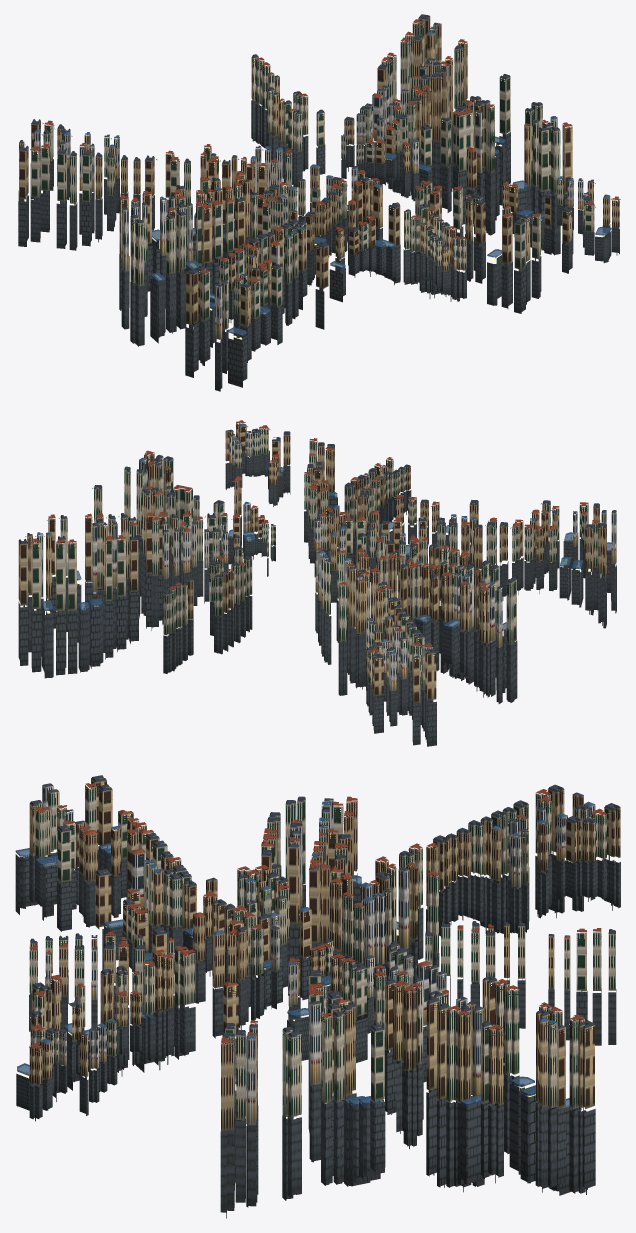
File: osm_buildings_T_E01_S01_Q1.glb
3 views of the same model, one above another, from view 1: azimuth 30°, elevation 25°; view 2: azimuth 150°, elevation 25°; view 3: azimuth 270°, elevation 25° (orthographic). The views are drawn at different scales.
Visible parts, largest first — view 1: OSM_PBR_T_E01_S01_Q1_foundation, OSM_PBR_T_E01_S01_Q1_wall_cream_stucco, OSM_PBR_T_E01_S01_Q1_wall_french_ochre, OSM_PBR_T_E01_S01_Q1_wall_pastel_sand, OSM_PBR_T_E01_S01_Q1_wall_warm_white, OSM_PBR_T_E01_S01_Q1_roof_mansard_slate, OSM_PBR_T_E01_S01_Q1_roof_terracotta, OSM_PBR_T_E01_S01_Q1_greenhouse_blend, OSM_PBR_T_E01_S01_Q1_roof_mansard_deck, OSM_PBR_T_E01_S01_Q1_roof_mint_metal, OSM_PBR_T_E01_S01_Q1_balcony_railing, OSM_PBR_T_E01_S01_Q1_roof_alpine_blue; view 2: OSM_PBR_T_E01_S01_Q1_foundation, OSM_PBR_T_E01_S01_Q1_wall_cream_stucco, OSM_PBR_T_E01_S01_Q1_wall_french_ochre, OSM_PBR_T_E01_S01_Q1_wall_pastel_sand, OSM_PBR_T_E01_S01_Q1_wall_warm_white, OSM_PBR_T_E01_S01_Q1_roof_mansard_slate, OSM_PBR_T_E01_S01_Q1_roof_terracotta, OSM_PBR_T_E01_S01_Q1_greenhouse_blend, OSM_PBR_T_E01_S01_Q1_roof_mansard_deck, OSM_PBR_T_E01_S01_Q1_roof_mint_metal, OSM_PBR_T_E01_S01_Q1_roof_alpine_blue, OSM_PBR_T_E01_S01_Q1_trim_cornice; view 3: OSM_PBR_T_E01_S01_Q1_foundation, OSM_PBR_T_E01_S01_Q1_wall_french_ochre, OSM_PBR_T_E01_S01_Q1_wall_cream_stucco, OSM_PBR_T_E01_S01_Q1_wall_warm_white, OSM_PBR_T_E01_S01_Q1_wall_pastel_sand, OSM_PBR_T_E01_S01_Q1_roof_mansard_slate, OSM_PBR_T_E01_S01_Q1_roof_terracotta, OSM_PBR_T_E01_S01_Q1_greenhouse_blend, OSM_PBR_T_E01_S01_Q1_roof_mansard_deck, OSM_PBR_T_E01_S01_Q1_roof_mint_metal, OSM_PBR_T_E01_S01_Q1_trim_cornice, OSM_PBR_T_E01_S01_Q1_roof_alpine_blue.
Boxes of the visible parts, x1=… form: OSM_PBR_T_E01_S01_Q1_foundation: x1=18, y1=99, x2=619, y2=391; OSM_PBR_T_E01_S01_Q1_wall_cream_stucco: x1=31, y1=22, x2=594, y2=329; OSM_PBR_T_E01_S01_Q1_wall_french_ochre: x1=19, y1=17, x2=619, y2=326; OSM_PBR_T_E01_S01_Q1_wall_pastel_sand: x1=34, y1=67, x2=573, y2=339; OSM_PBR_T_E01_S01_Q1_wall_warm_white: x1=63, y1=60, x2=589, y2=284; OSM_PBR_T_E01_S01_Q1_roof_mansard_slate: x1=19, y1=15, x2=593, y2=287; OSM_PBR_T_E01_S01_Q1_roof_terracotta: x1=31, y1=19, x2=619, y2=282; OSM_PBR_T_E01_S01_Q1_greenhouse_blend: x1=151, y1=112, x2=611, y2=336; OSM_PBR_T_E01_S01_Q1_roof_mansard_deck: x1=20, y1=14, x2=608, y2=313; OSM_PBR_T_E01_S01_Q1_roof_mint_metal: x1=20, y1=20, x2=617, y2=292; OSM_PBR_T_E01_S01_Q1_balcony_railing: x1=32, y1=47, x2=617, y2=291; OSM_PBR_T_E01_S01_Q1_roof_alpine_blue: x1=34, y1=26, x2=609, y2=256; OSM_PBR_T_E01_S01_Q1_foundation: x1=18, y1=450, x2=616, y2=746; OSM_PBR_T_E01_S01_Q1_wall_cream_stucco: x1=32, y1=428, x2=606, y2=690; OSM_PBR_T_E01_S01_Q1_wall_french_ochre: x1=18, y1=423, x2=606, y2=703; OSM_PBR_T_E01_S01_Q1_wall_pastel_sand: x1=112, y1=440, x2=616, y2=691; OSM_PBR_T_E01_S01_Q1_wall_warm_white: x1=92, y1=433, x2=577, y2=673; OSM_PBR_T_E01_S01_Q1_roof_mansard_slate: x1=19, y1=429, x2=616, y2=658; OSM_PBR_T_E01_S01_Q1_roof_terracotta: x1=32, y1=420, x2=600, y2=651; OSM_PBR_T_E01_S01_Q1_greenhouse_blend: x1=42, y1=466, x2=611, y2=630; OSM_PBR_T_E01_S01_Q1_roof_mansard_deck: x1=20, y1=428, x2=610, y2=656; OSM_PBR_T_E01_S01_Q1_roof_mint_metal: x1=20, y1=433, x2=604, y2=661; OSM_PBR_T_E01_S01_Q1_roof_alpine_blue: x1=37, y1=424, x2=535, y2=654; OSM_PBR_T_E01_S01_Q1_trim_cornice: x1=20, y1=423, x2=614, y2=658; OSM_PBR_T_E01_S01_Q1_foundation: x1=15, y1=846, x2=620, y2=1218; OSM_PBR_T_E01_S01_Q1_wall_french_ochre: x1=29, y1=777, x2=620, y2=1130; OSM_PBR_T_E01_S01_Q1_wall_cream_stucco: x1=29, y1=785, x2=615, y2=1120; OSM_PBR_T_E01_S01_Q1_wall_warm_white: x1=59, y1=811, x2=567, y2=1125; OSM_PBR_T_E01_S01_Q1_wall_pastel_sand: x1=42, y1=785, x2=595, y2=1084; OSM_PBR_T_E01_S01_Q1_roof_mansard_slate: x1=30, y1=775, x2=620, y2=1037; OSM_PBR_T_E01_S01_Q1_roof_terracotta: x1=29, y1=783, x2=606, y2=1047; OSM_PBR_T_E01_S01_Q1_greenhouse_blend: x1=15, y1=843, x2=569, y2=1109; OSM_PBR_T_E01_S01_Q1_roof_mansard_deck: x1=17, y1=775, x2=618, y2=1109; OSM_PBR_T_E01_S01_Q1_roof_mint_metal: x1=30, y1=783, x2=620, y2=1052; OSM_PBR_T_E01_S01_Q1_trim_cornice: x1=30, y1=777, x2=619, y2=1050; OSM_PBR_T_E01_S01_Q1_roof_alpine_blue: x1=40, y1=801, x2=594, y2=1043.
Bounding box in the file's own units: 994 × 329 × 917.
Materials: 18 (16 with a texture image).
